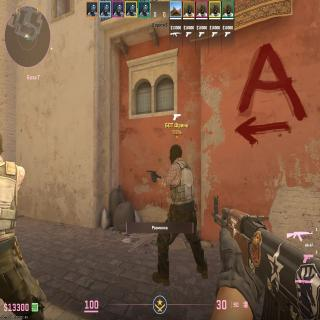T-Body: (0, 133, 48, 320), (166, 144, 197, 286)
T-Head: (170, 144, 182, 164), (0, 134, 3, 155)
